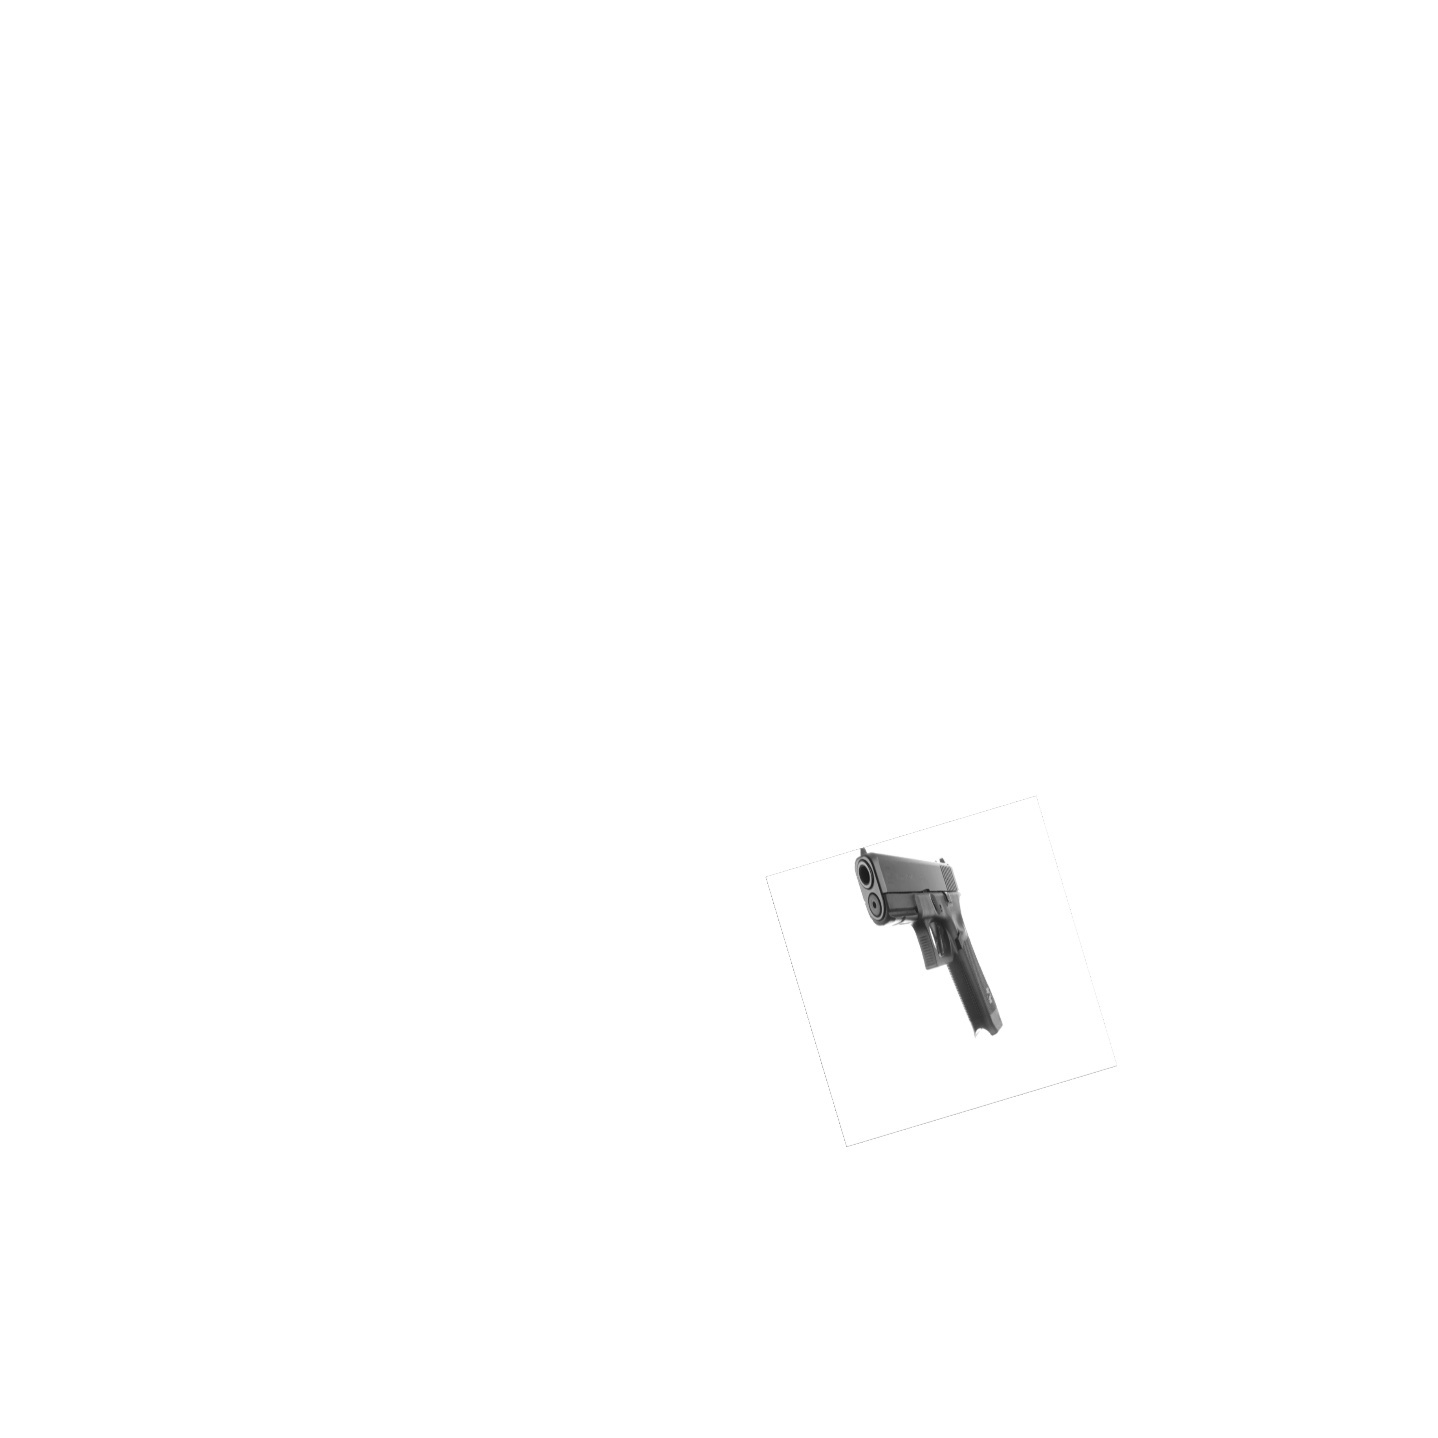gun: (855, 845, 1002, 1032)
